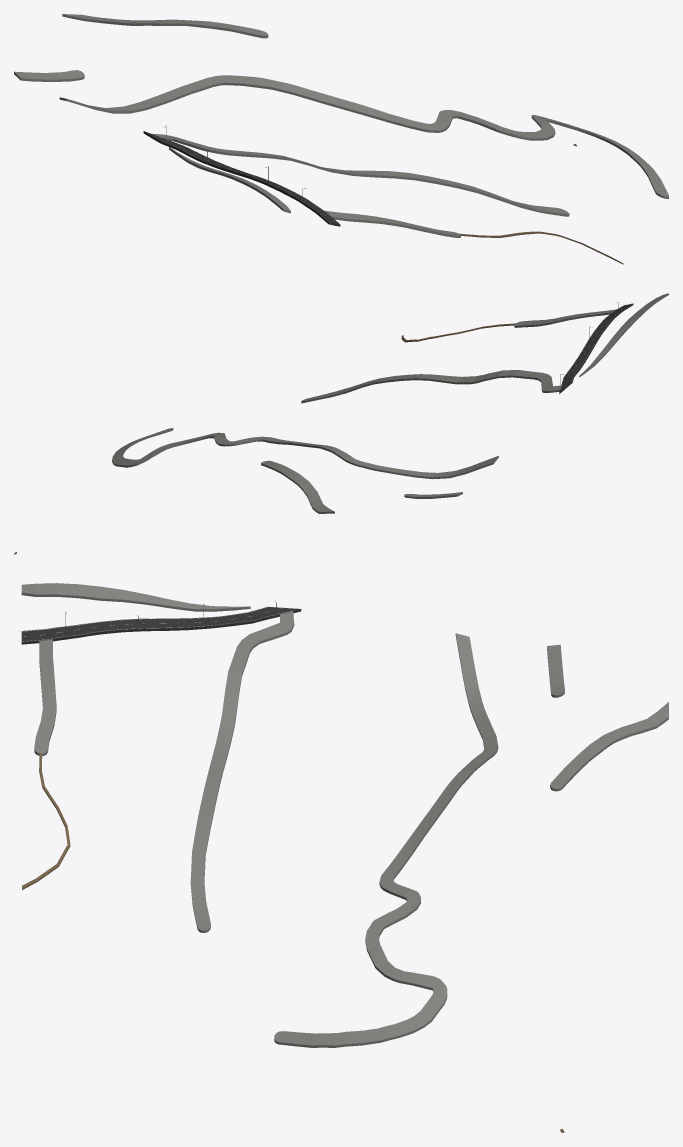
Rendered from 17-109435-59488.43fbbb79.glb.
3 views of the same model, one above another, from view 1: azimuth 30°, elevation 25°; view 2: azimuth 150°, elevation 25°; view 3: azimuth 270°, elevation 25° (orthographic). The views are drawn at different scales.
Size of the model in its own units: 294 by 136 by 295.
